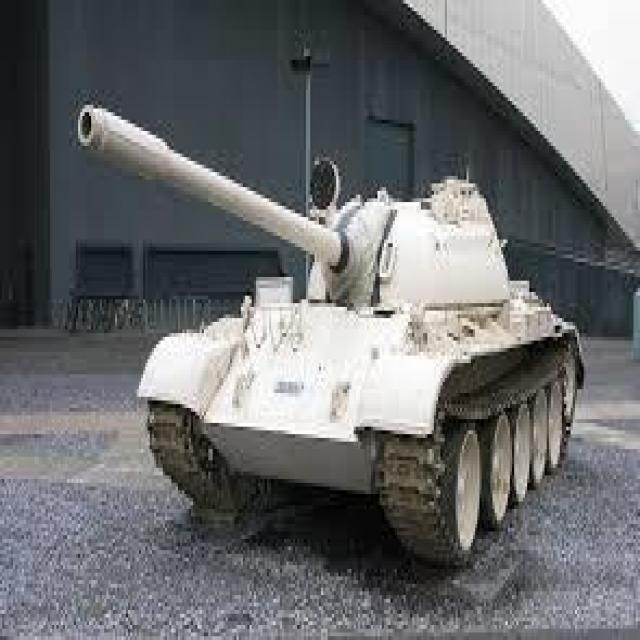MIL_MBT: (150, 180, 575, 584)
